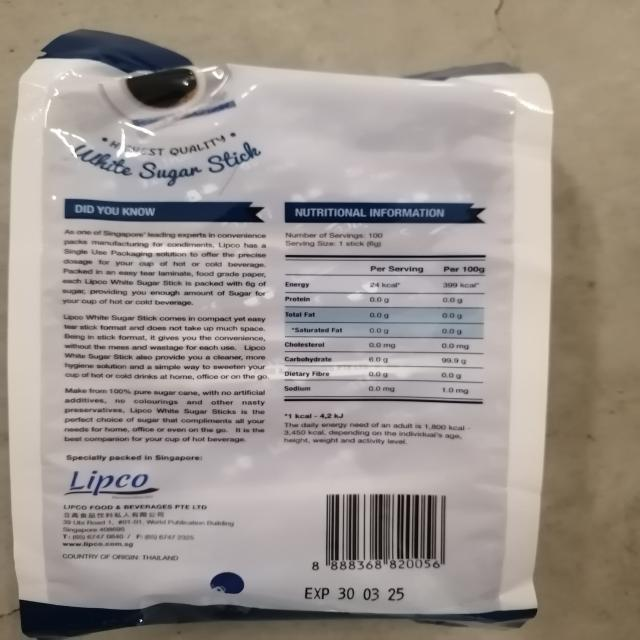object_name: (23, 62, 536, 614)
